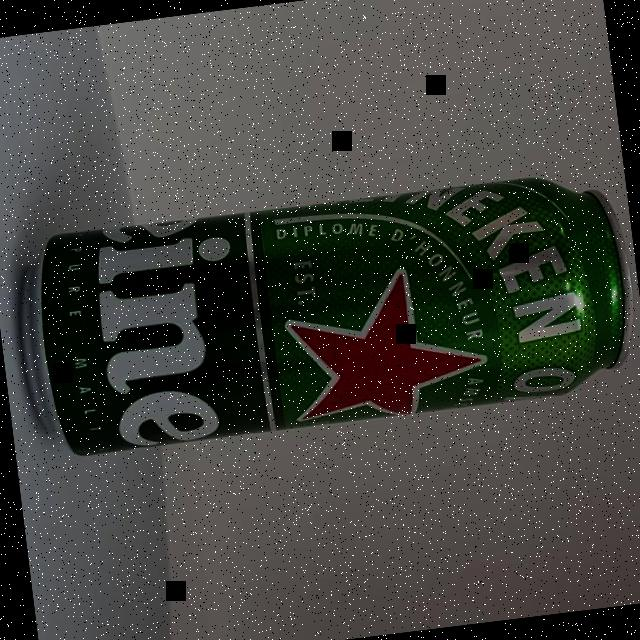can: (7, 165, 640, 462)
